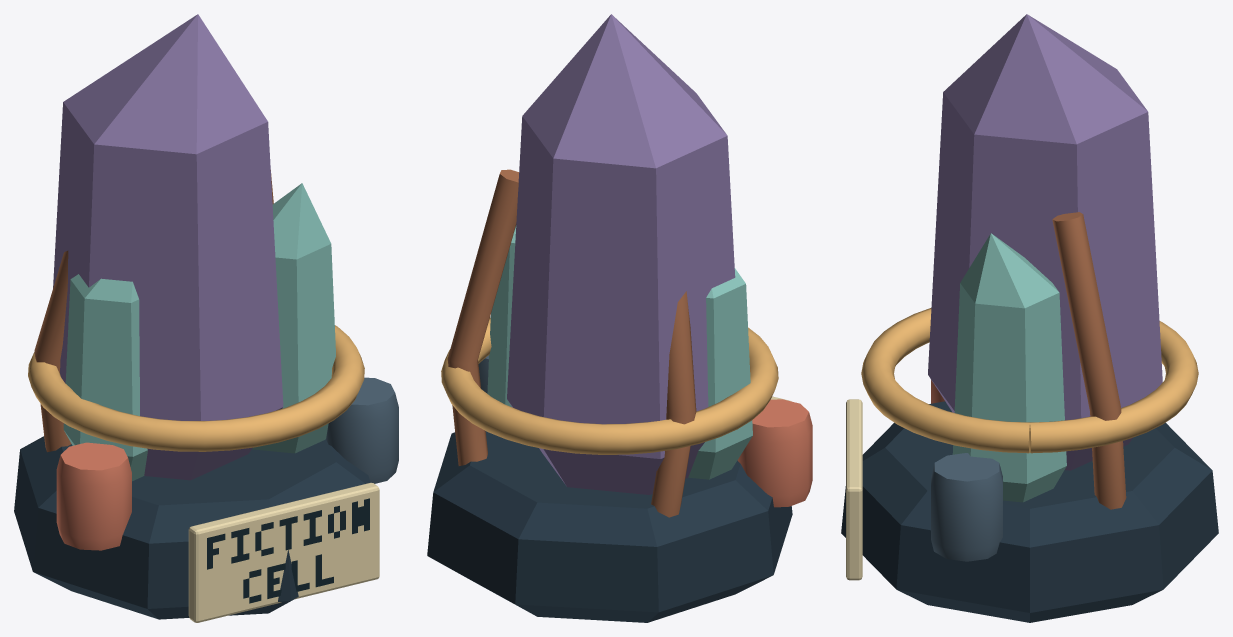
3 views of the same model, side by side, from view 1: azimuth 30°, elevation 25°; view 2: azimuth 150°, elevation 25°; view 3: azimuth 270°, elevation 25° (orthographic).
Parts seen in each view (by area): view 1: PR140 enamel and hardware; view 2: PR140 enamel and hardware; view 3: PR140 enamel and hardware.
Boxes of the visible parts, box(x1,y1,x2,y2) form: PR140 enamel and hardware: box(14, 14, 398, 622); PR140 enamel and hardware: box(427, 14, 812, 622); PR140 enamel and hardware: box(841, 14, 1218, 622).
Bounding box in the file's own units: 0.1779 × 0.28 × 0.175.
